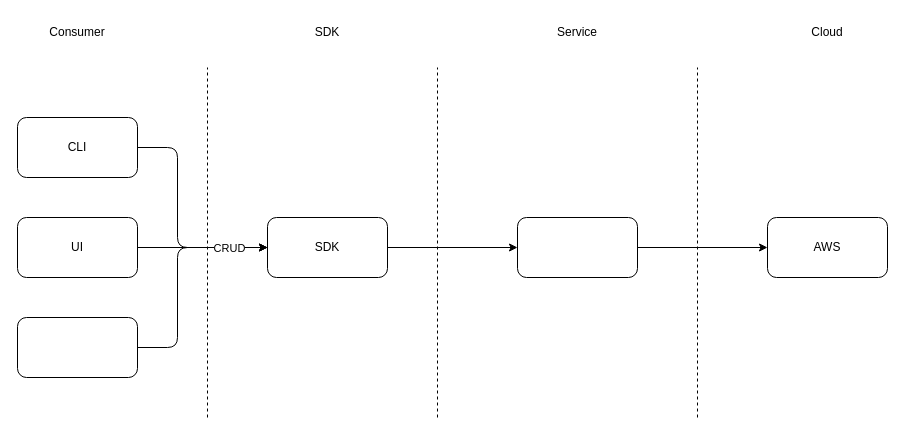
Some shapes in this 905 by 436 pixel diagram are drawn without their labels. The shapes that lost their labels are listed below. From the top down, each one's centre as x and y in pixels, then its label:
At [577,247]: "API".
At [77,347]: "Tooling (Terraform, Ansible, Curl)".
